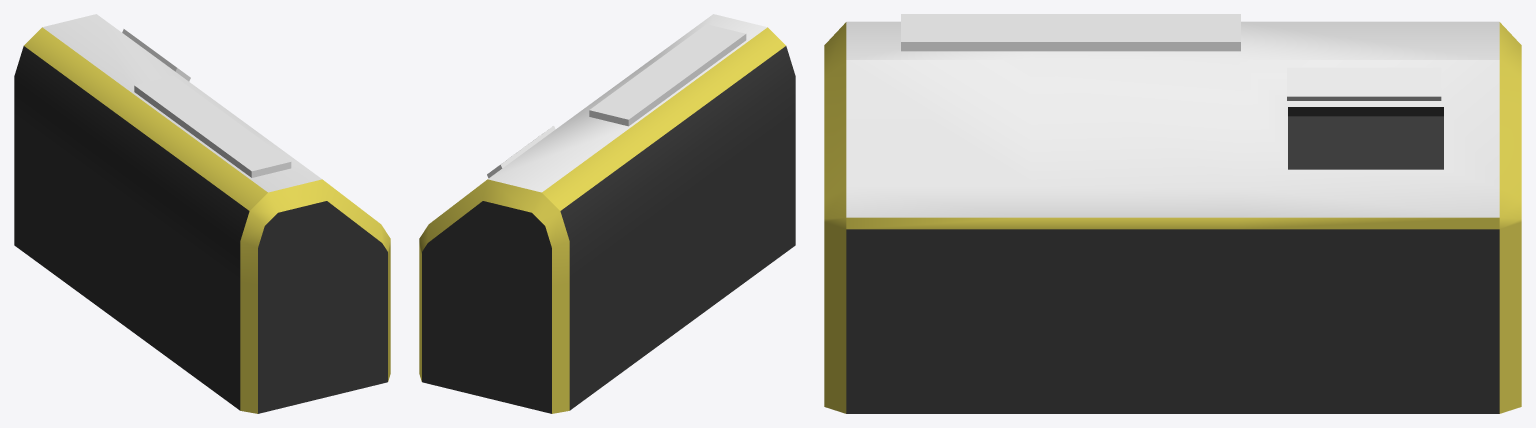
Rendered from ControlPanel.fbx.
The picture shows the model from 3 angles, left to right: view 1: azimuth 30°, elevation 25°; view 2: azimuth 150°, elevation 25°; view 3: azimuth 270°, elevation 25°; orthographic projection. The views are drawn at different scales.
Visible parts, largest first — view 1: CONTROL_PANEL_NO_LEVER:pCube5; view 2: CONTROL_PANEL_NO_LEVER:pCube5; view 3: CONTROL_PANEL_NO_LEVER:pCube5.
Boxes of the visible parts, left/top/right/bottom form: CONTROL_PANEL_NO_LEVER:pCube5: left=14, top=14, right=390, bottom=413; CONTROL_PANEL_NO_LEVER:pCube5: left=419, top=14, right=795, bottom=413; CONTROL_PANEL_NO_LEVER:pCube5: left=824, top=14, right=1521, bottom=413.
Size of the model in its own units: 902 by 1252 by 2508.
